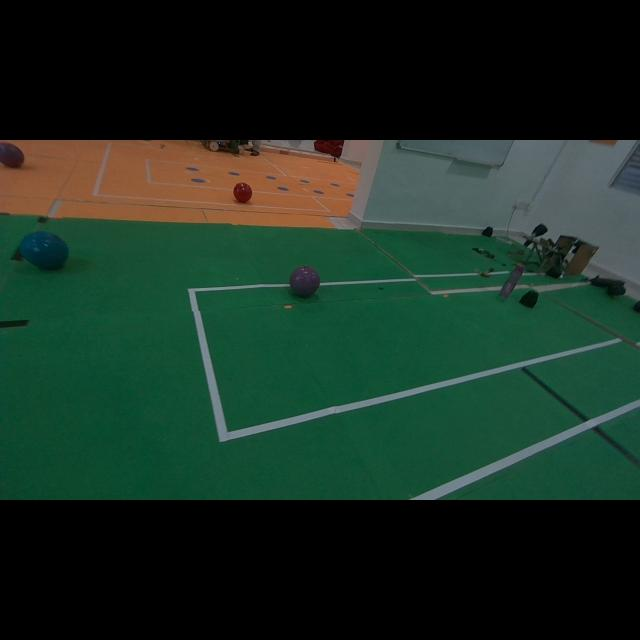B: (20, 231, 69, 269)
P: (290, 266, 320, 296)
R: (234, 182, 252, 203)
